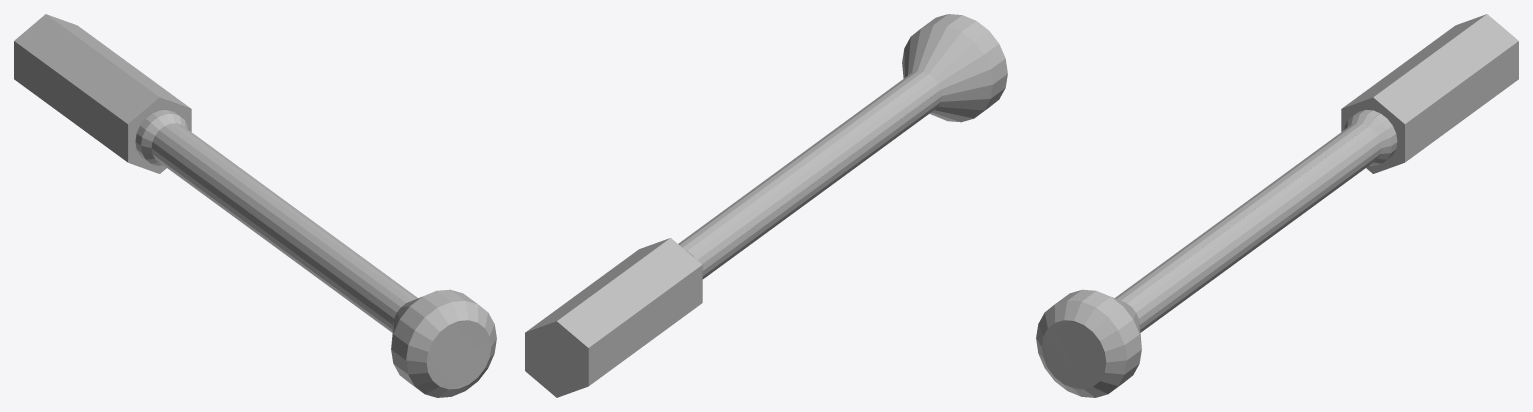
File: drill_heavy_head.obj
3 views of the same model, side by side, from view 1: azimuth 30°, elevation 25°; view 2: azimuth 150°, elevation 25°; view 3: azimuth 330°, elevation 25° (orthographic).
Visible parts, largest first — view 1: Cube.001; view 2: Cube.001; view 3: Cube.001.
Part boxes in pixels (box(x1,y1,x2,y2)): Cube.001: box(14, 14, 496, 397); Cube.001: box(525, 14, 1007, 397); Cube.001: box(1036, 14, 1518, 397).
Bounding box in the file's own units: 0.2103 × 0.2103 × 1.66.
